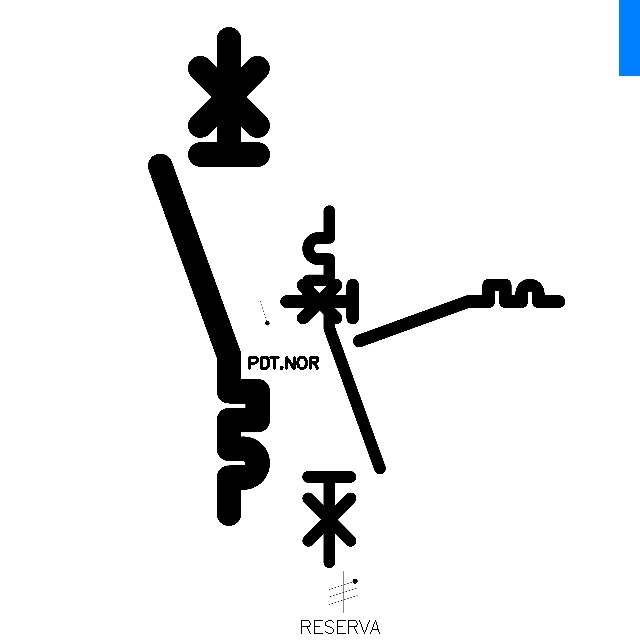interruptor_termomagnetico: (148, 27, 270, 526), (299, 202, 389, 571), (279, 278, 566, 348)
